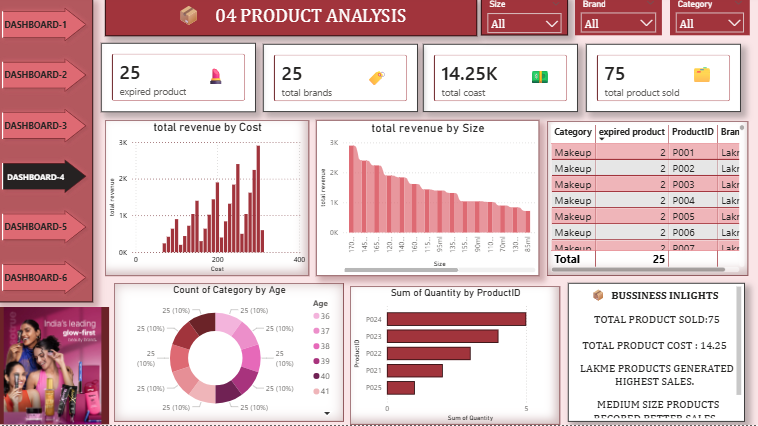

Layout of this report page (visuals, bound fields, positions):
{"tool":"powerbi","page":{"name":"DASHBOARD-4","canvas":[1280,720],"ordinal":3},"visuals":[{"type":"textbox","box":[183.1,3.4,624.9,63.8],"z":0},{"type":"cardVisual","fields":{"Data":["Customers.total product sold"]},"box":[991.1,80.6,260.4,114.2],"z":1000},{"type":"cardVisual","fields":{"Data":["Customers.total coast"]},"box":[717.3,80.6,260.4,114.2],"z":2000},{"type":"cardVisual","fields":{"Data":["Customers.total brands"]},"box":[448.5,80.6,260.4,114.2],"z":3000},{"type":"cardVisual","fields":{"Data":["Customers.expired product"]},"box":[176.4,79,260,115.9],"z":4000},{"type":"clusteredColumnChart","fields":{"Category":["Products.Cost"],"Y":["Customers.total revenue"]},"box":[183.1,208.3,342.7,262],"z":5000},{"type":"donutChart","fields":{"Y":["CountNonNull(Products.Category)"],"Category":["Customers.Age"]},"box":[198.2,482.1,386.4,233.5],"z":6000},{"type":"barChart","fields":{"Category":["Products.ProductID"],"Y":["Sum(Sales.Quantity)"]},"box":[594.6,486.5,352.8,233.5],"z":7000},{"type":"tableEx","fields":{"Values":["Products.Category","Customers.expired product","Inventory.ProductID","Products.Brand"]},"box":[925.6,210,337.6,260.4],"z":8000},{"type":"ribbonChart","fields":{"Category":["Products.Size"],"Y":["Customers.total revenue"]},"box":[537.5,208.3,374.6,262],"z":9000},{"type":"slicer","fields":{"Values":["Products.Size"]},"box":[814.7,0,146.1,65.5],"z":10000},{"type":"slicer","fields":{"Values":["Products.Brand"]},"box":[972.6,0,146.1,65.5],"z":11000},{"type":"slicer","fields":{"Values":["Products.Category"]},"box":[1132.2,0,134.4,65.5],"z":12000},{"type":"pageNavigator","box":[0,3.4,162.9,510.7],"z":13000},{"type":"image","box":[0,522.4,189.8,196.5],"z":14000},{"type":"textbox","box":[960.8,482.1,297.3,233.5],"z":15000},{"type":"textbox","box":[346,110.9,42,48.7],"z":16000},{"type":"textbox","box":[1154,107.5,63.8,48.7],"z":17000},{"type":"textbox","box":[606.4,114.2,67.2,47],"z":18000},{"type":"textbox","box":[890.3,109.2,42,47],"z":19000}]}

Visuals, with their boxes in screenshot pixels (x1, y1, x2, y2), scaled from the page's 1280x720 canvas onto the 758x426 screenshot:
textbox: [108, 2, 478, 40]
cardVisual - Customers.total product sold: [587, 48, 741, 115]
cardVisual - Customers.total coast: [425, 48, 579, 115]
cardVisual - Customers.total brands: [266, 48, 420, 115]
cardVisual - Customers.expired product: [104, 47, 258, 115]
clusteredColumnChart - Products.Cost x Customers.total revenue: [108, 123, 311, 278]
donutChart - CountNonNull(Products.Category) x Customers.Age: [117, 285, 346, 423]
barChart - Products.ProductID x Sum(Sales.Quantity): [352, 288, 561, 425]
tableEx - Products.Category x Customers.expired product: [548, 124, 748, 278]
ribbonChart - Products.Size x Customers.total revenue: [318, 123, 540, 278]
slicer - Products.Size: [482, 0, 569, 39]
slicer - Products.Brand: [576, 0, 662, 39]
slicer - Products.Category: [670, 0, 750, 39]
pageNavigator: [0, 2, 96, 304]
image: [0, 309, 112, 425]
textbox: [569, 285, 745, 423]
textbox: [205, 66, 230, 94]
textbox: [683, 64, 721, 92]
textbox: [359, 68, 399, 95]
textbox: [527, 65, 552, 92]
